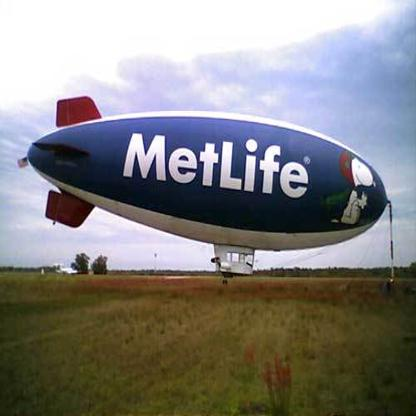Airship: (23, 95, 389, 271)
